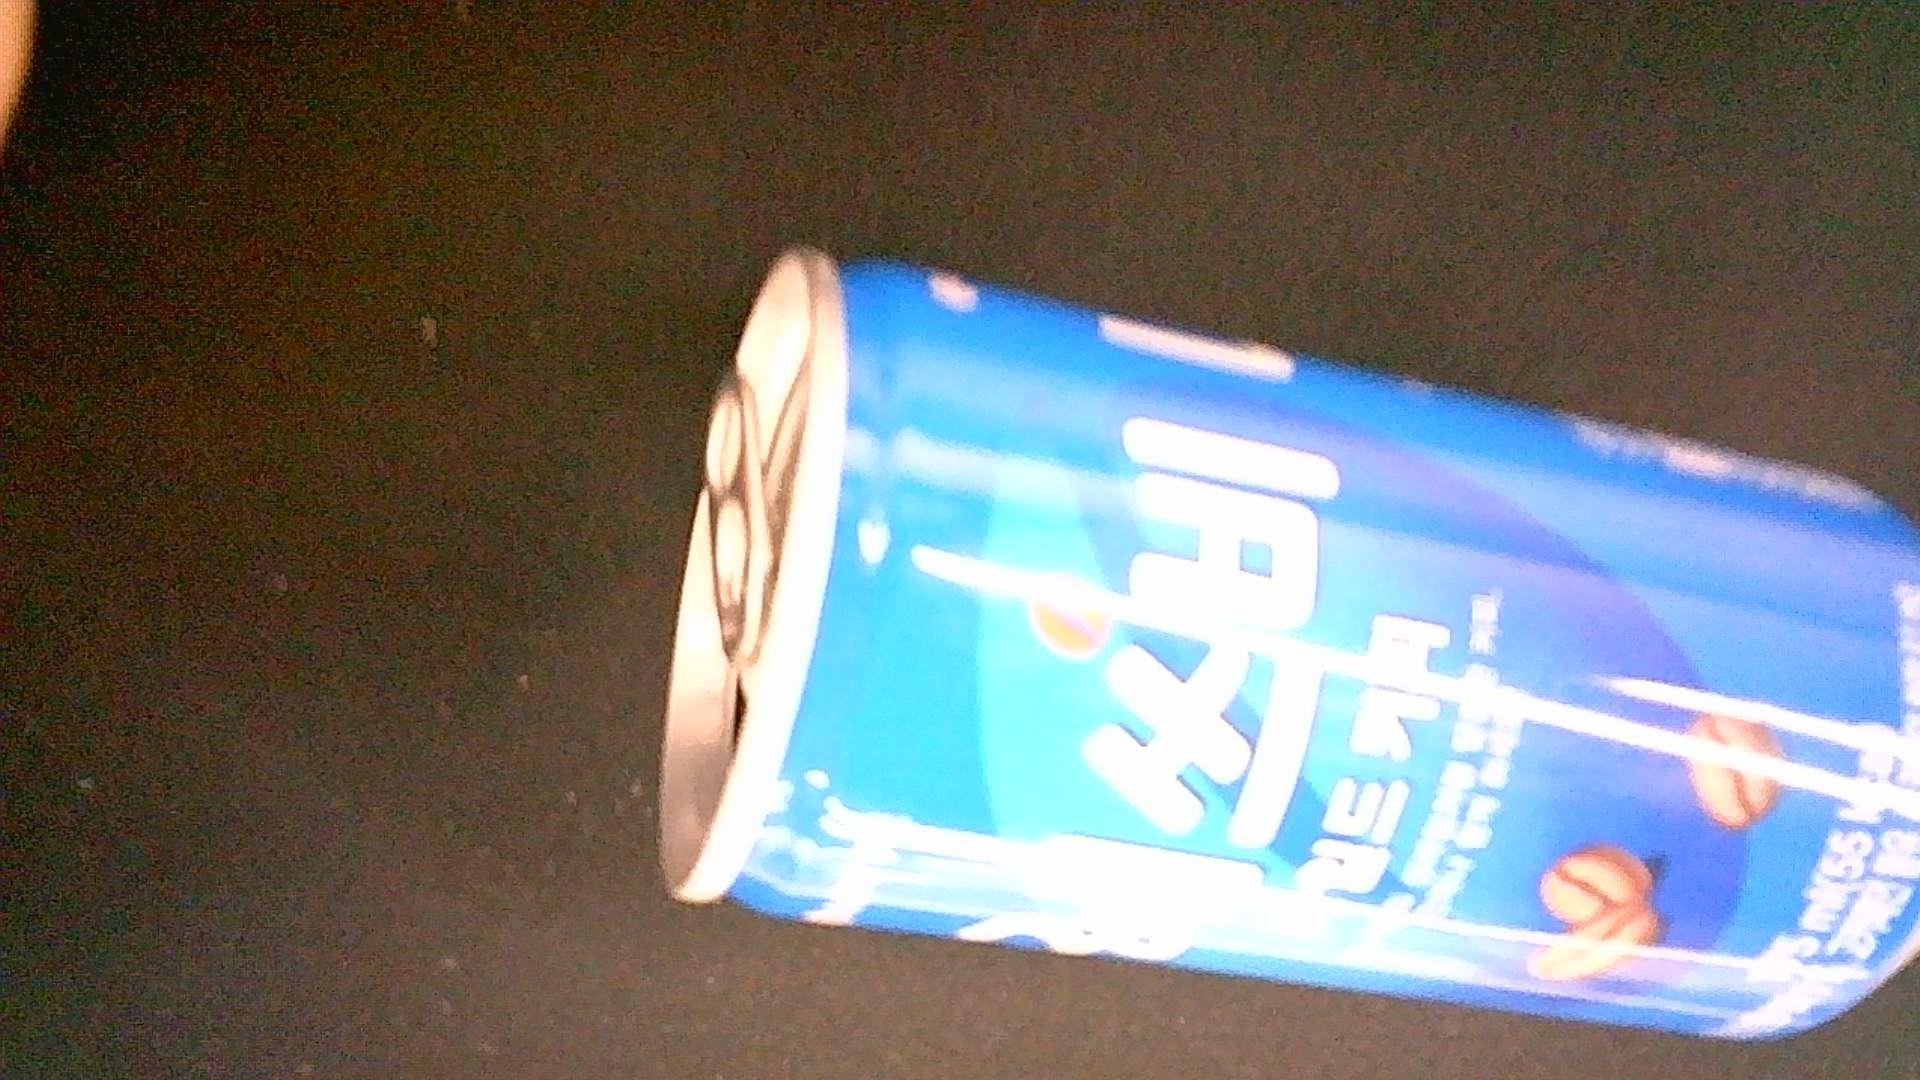letsbe: (655, 243, 1917, 1044)
